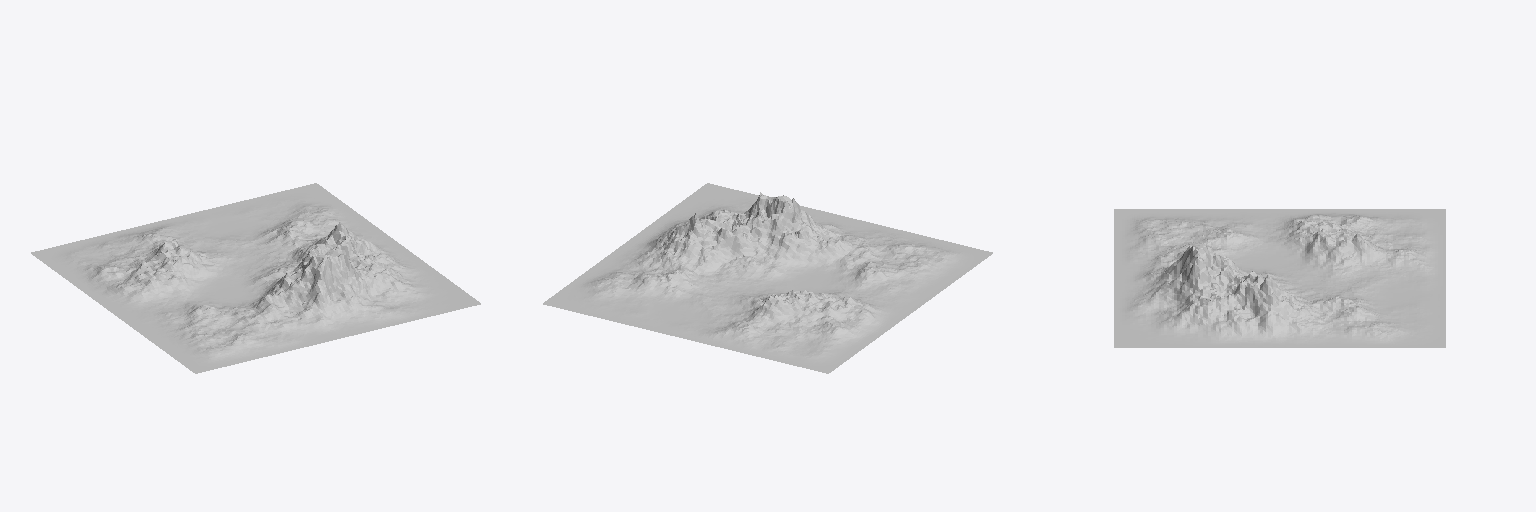
Rendered from terrain2.obj.
3 views of the same model, side by side, from view 1: azimuth 30°, elevation 25°; view 2: azimuth 150°, elevation 25°; view 3: azimuth 270°, elevation 25° (orthographic).
Size of the model in its own units: 6.08 by 0.9112 by 6.08.